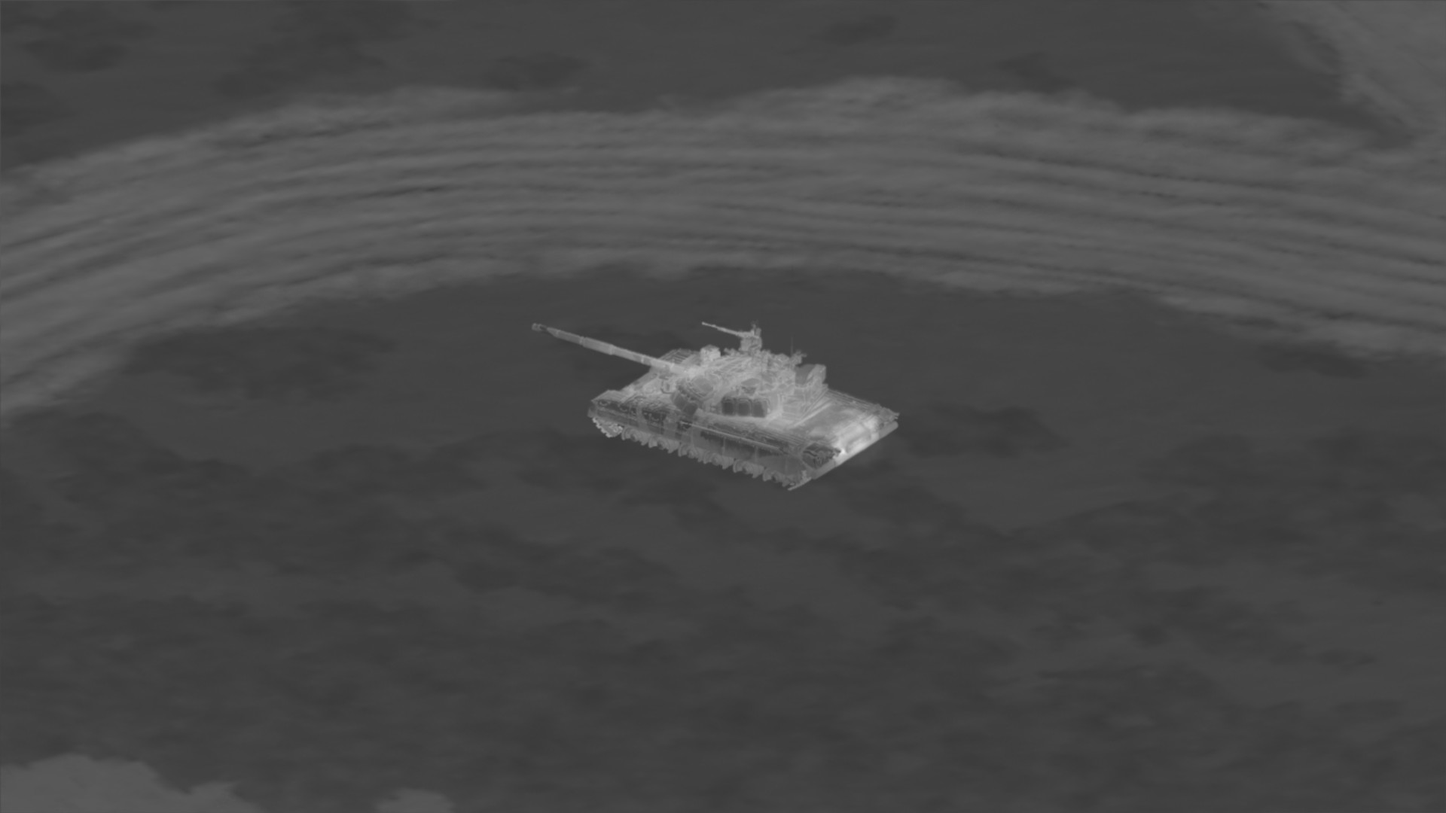t-80u: (532, 321, 901, 492)
